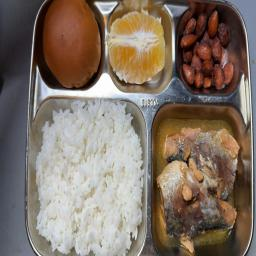100_bread: (43, 0, 101, 87)
100_fish: (156, 119, 239, 249)
100_nuts: (36, 100, 144, 253), (180, 10, 234, 91)
100_orange: (40, 3, 103, 80), (106, 12, 165, 84)
100_rice: (36, 105, 143, 255)
